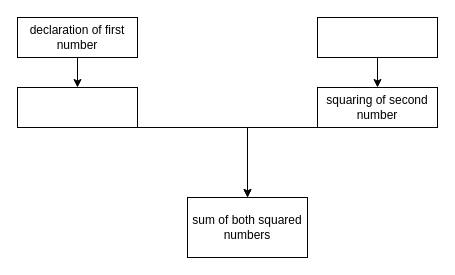
Some shapes in this 455 by 275 pixel diagram are drawn without their labels. The shapes that lost their labels are listed below. From the top down, each one's centre as x and y in pixels, then its label:
At pixel 377 37: "declaration of second number".
At pixel 77 107: "squaring of first number".
